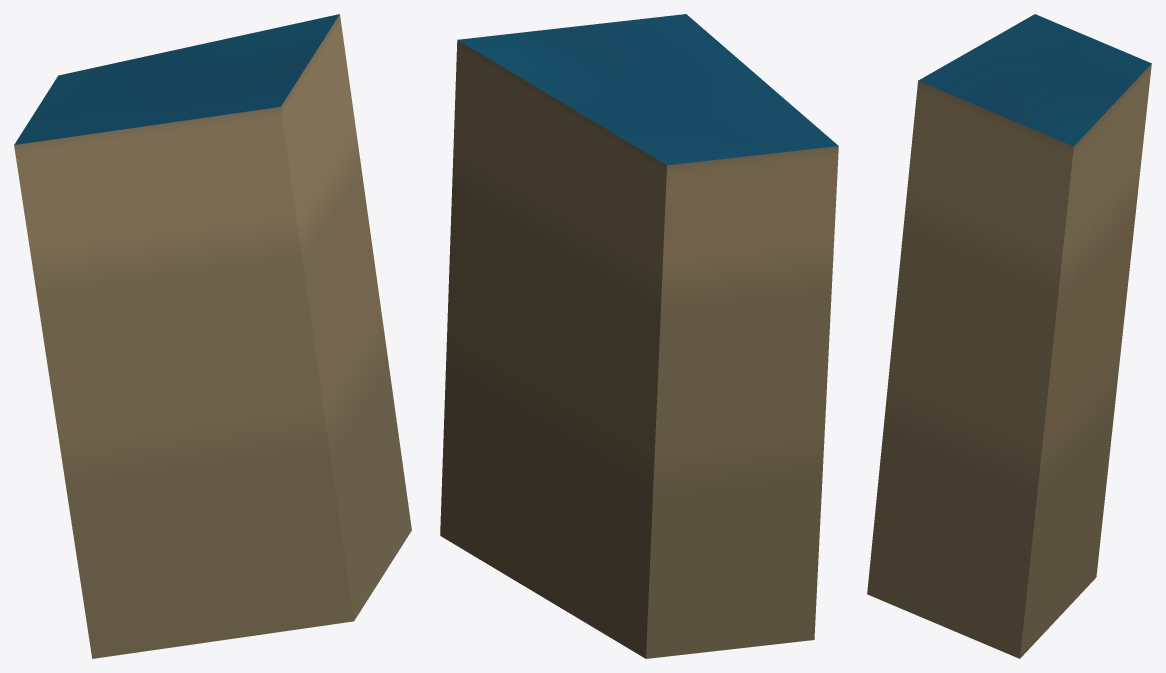
Rendered from 0600_Kiribati.glb.
3 renders of one model, left to right at view 1: azimuth 30°, elevation 25°; view 2: azimuth 150°, elevation 25°; view 3: azimuth 270°, elevation 25°, orthographic. The views are drawn at different scales.
Visible parts, largest first — view 1: part_0; view 2: part_0; view 3: part_0.
Part boxes in pixels (x1,y1,x2,y2): part_0: (14, 14, 411, 658); part_0: (440, 14, 838, 658); part_0: (867, 14, 1151, 658).
Bounding box in the file's own units: 0.1597 × 0.2105 × 0.1041.
Materials: 1 (1 with a texture image).
